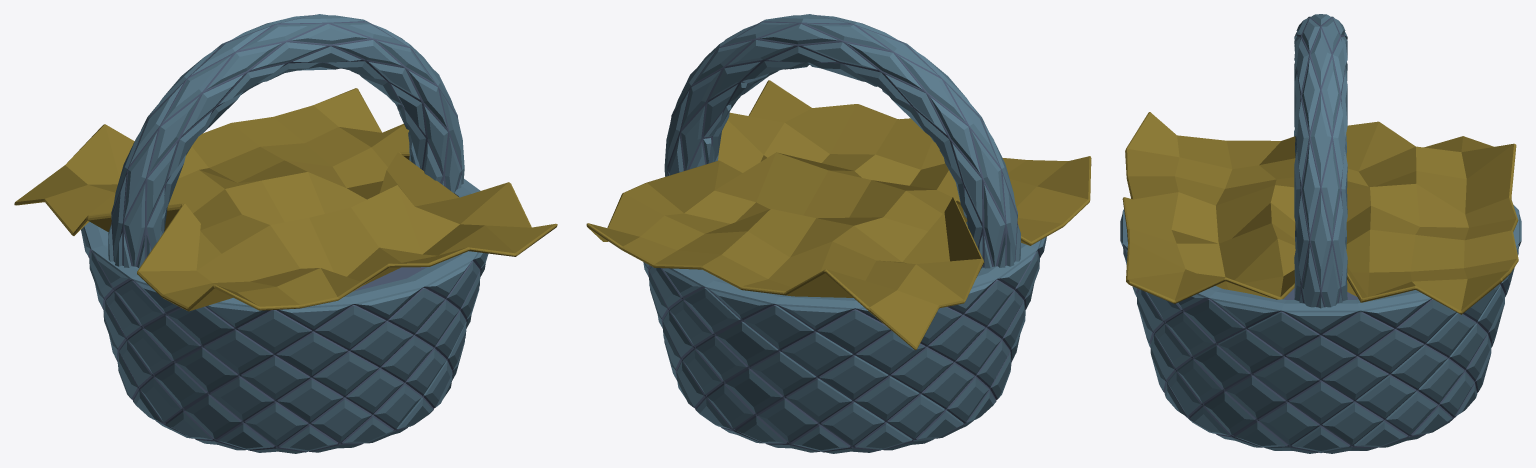
The model's file is basket4.fbx.
3 views of the same model, side by side, from view 1: azimuth 30°, elevation 25°; view 2: azimuth 150°, elevation 25°; view 3: azimuth 270°, elevation 25° (orthographic). The views are drawn at different scales.
Visible parts, largest first — view 1: Plane.003; view 2: Plane.003; view 3: Plane.003.
Boxes of the visible parts, x1=… form: Plane.003: x1=14, y1=14, x2=557, y2=453; Plane.003: x1=586, y1=14, x2=1091, y2=453; Plane.003: x1=1120, y1=14, x2=1521, y2=453.
Size of the model in its own units: 330 by 341 by 330.
